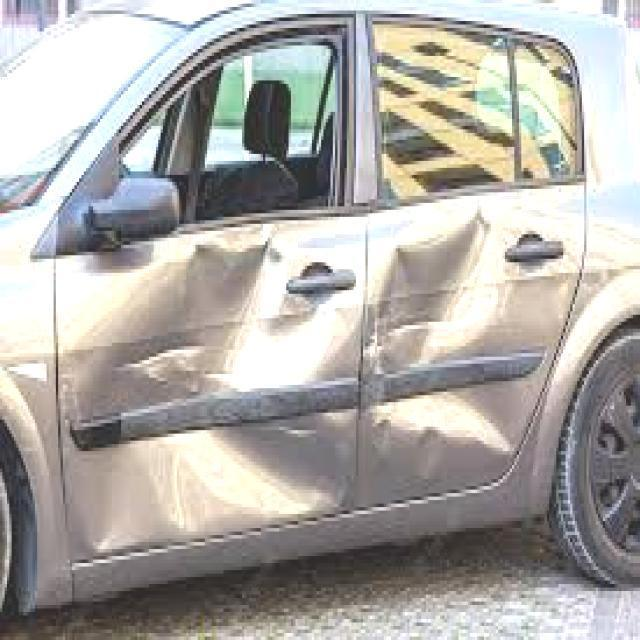minor: (70, 257, 359, 512), (373, 222, 499, 465)
